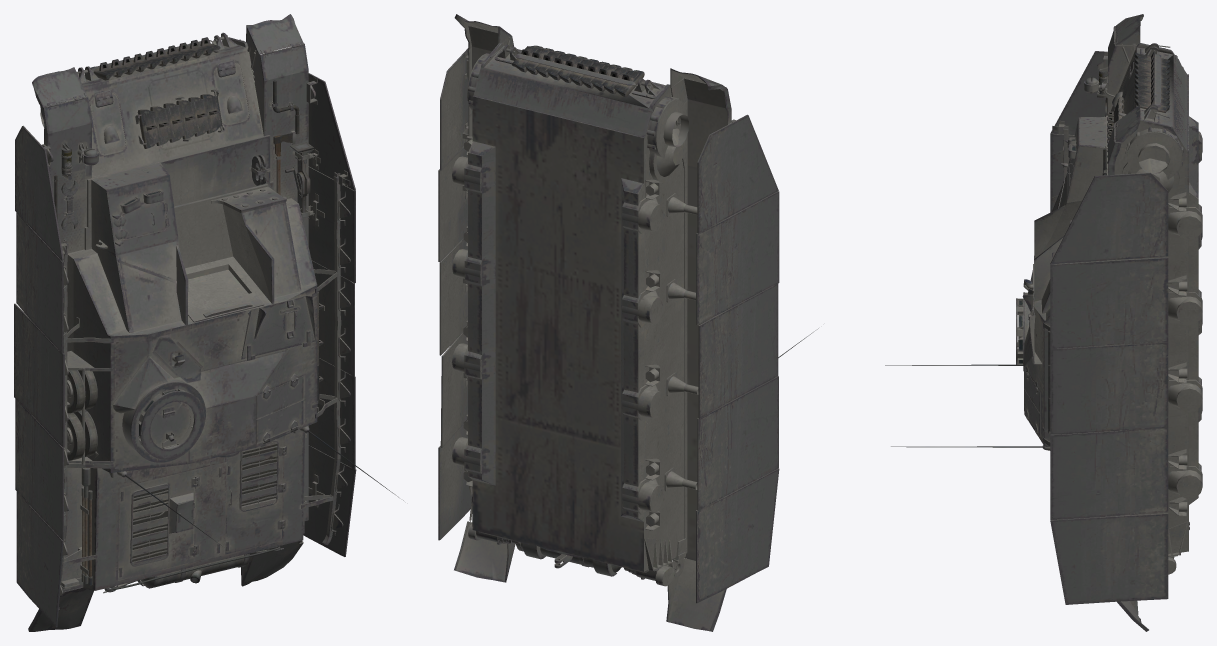
File: Hull.glb
3 renders of one model, left to right at view 1: azimuth 30°, elevation 25°; view 2: azimuth 150°, elevation 25°; view 3: azimuth 270°, elevation 25°, orthographic. The views are drawn at different scales.
Parts seen in each view (by area): view 1: set_0_group_0; view 2: set_0_group_0; view 3: set_0_group_0.
Part boxes in pixels (x1=…): set_0_group_0: x1=14, y1=14, x2=403, y2=631; set_0_group_0: x1=438, y1=14, x2=818, y2=631; set_0_group_0: x1=885, y1=14, x2=1202, y2=631.
Bounding box in the file's own units: 3.26 × 5.94 × 3.64.
Materials: 1 (1 with a texture image).
